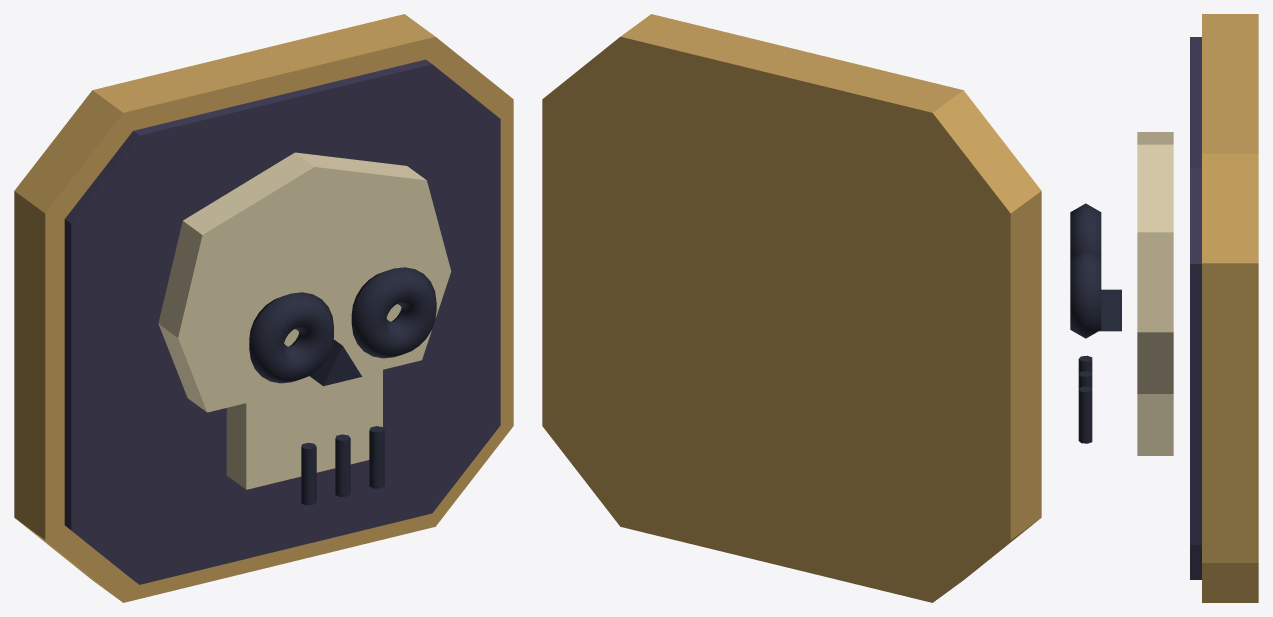
Rendered from poison.fbx.
3 renders of one model, left to right at view 1: azimuth 30°, elevation 25°; view 2: azimuth 150°, elevation 25°; view 3: azimuth 270°, elevation 25°, orthographic. The views are drawn at different scales.
Visible parts, largest first — view 1: poison; view 2: poison; view 3: poison.
Boxes of the visible parts, left/top/right/bottom form: poison: left=14, top=14, right=513, bottom=602; poison: left=542, top=14, right=1041, bottom=602; poison: left=1070, top=14, right=1258, bottom=602.
Bounding box in the file's own units: 0.96 × 0.96 × 0.3653.
